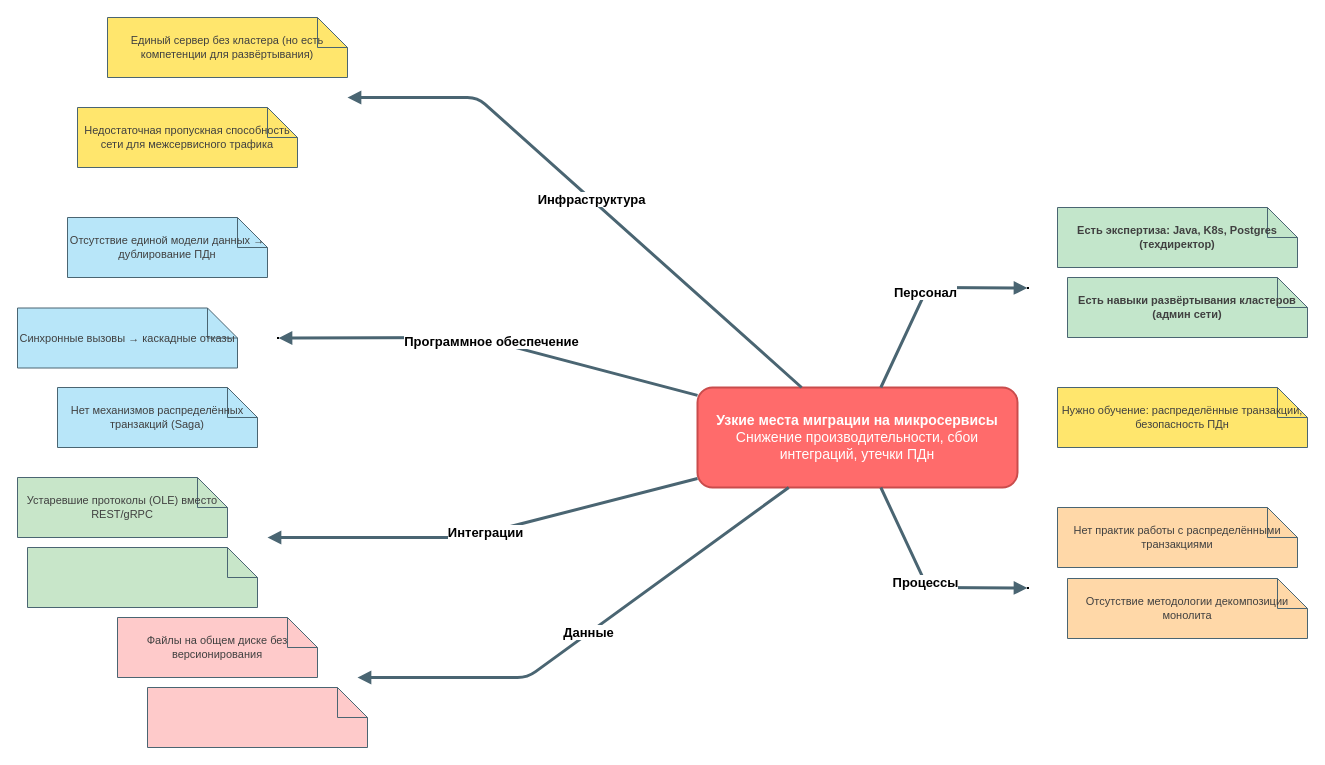
The diagram is 1325 pixels wide and 765 high, and some of its shapes have lost their labels. The shapes that lost their labels are listed below. From the top down, each one's centre as x and y in pixels, then its label:
At [142,577]: "Ручная интеграция с лабораторией".
At [257,717]: "Отсутствие классификации ПДн → сложность шифрования".
